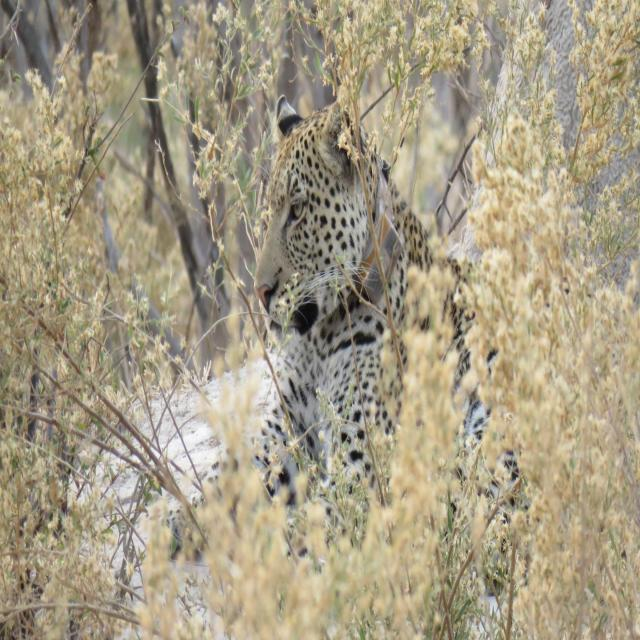Leopard: (180, 89, 630, 596)
